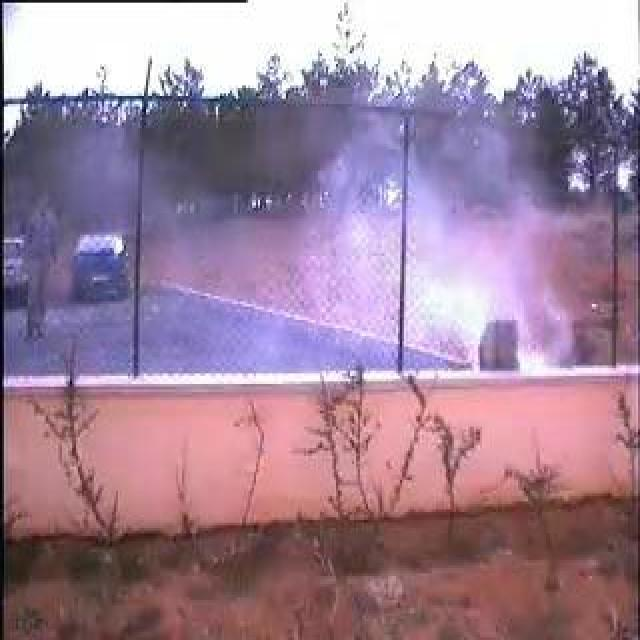Smoke: (320, 119, 560, 382)
